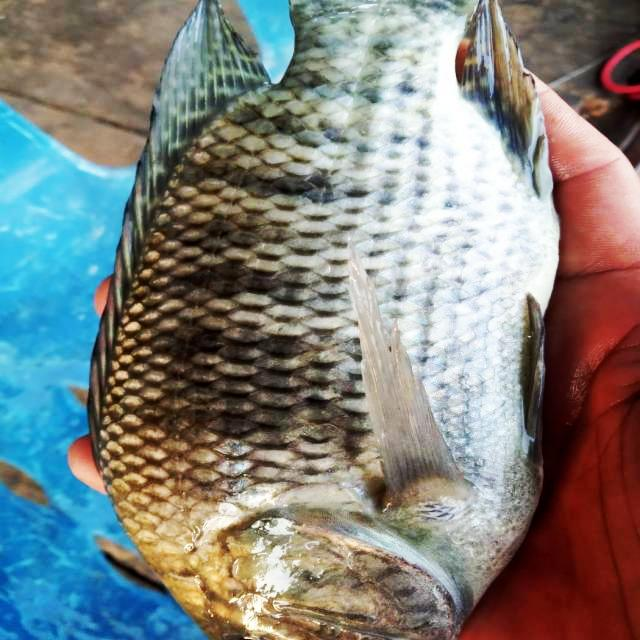Columnaris Disease: (90, 0, 558, 639)
